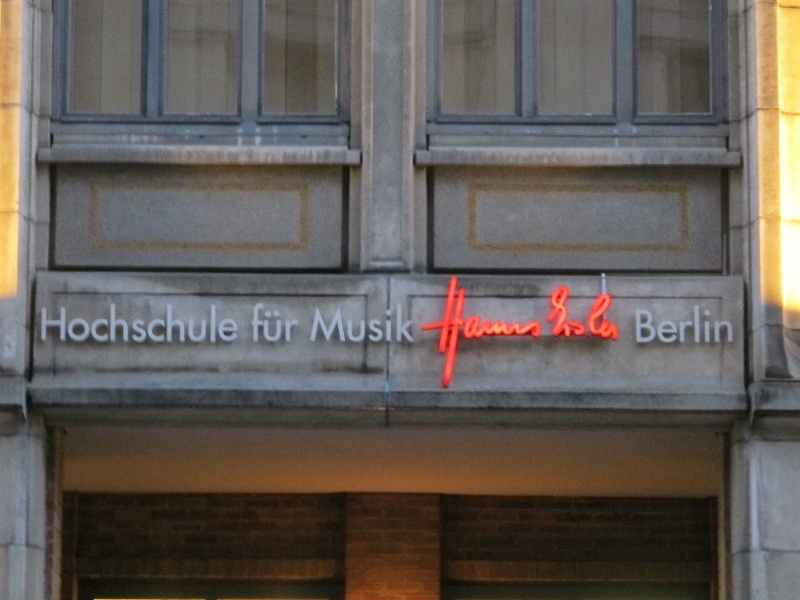text: (433, 276, 448, 396), (449, 276, 464, 396), (465, 276, 480, 396), (481, 276, 496, 396), (497, 276, 512, 396), (513, 276, 528, 396), (529, 276, 544, 396), (545, 276, 560, 396), (561, 276, 576, 396), (577, 276, 592, 396), (593, 276, 608, 396), (418, 276, 432, 396), (609, 276, 620, 396), (257, 300, 272, 343), (273, 300, 288, 343), (641, 302, 656, 345), (657, 302, 672, 345), (673, 302, 688, 345), (689, 302, 704, 345), (705, 302, 720, 345), (49, 304, 64, 346), (65, 304, 80, 346), (81, 304, 96, 346), (97, 304, 112, 346), (113, 304, 128, 346), (129, 304, 144, 346), (145, 304, 160, 346), (161, 304, 176, 346), (177, 304, 192, 346), (193, 304, 208, 346), (209, 304, 224, 346), (721, 302, 735, 345), (321, 305, 336, 343), (337, 305, 352, 343), (353, 305, 368, 343), (369, 305, 384, 343), (385, 305, 400, 343), (401, 305, 416, 343), (225, 304, 238, 346), (289, 300, 300, 343), (41, 304, 48, 346), (250, 300, 256, 343), (315, 305, 320, 343), (636, 302, 640, 345)
